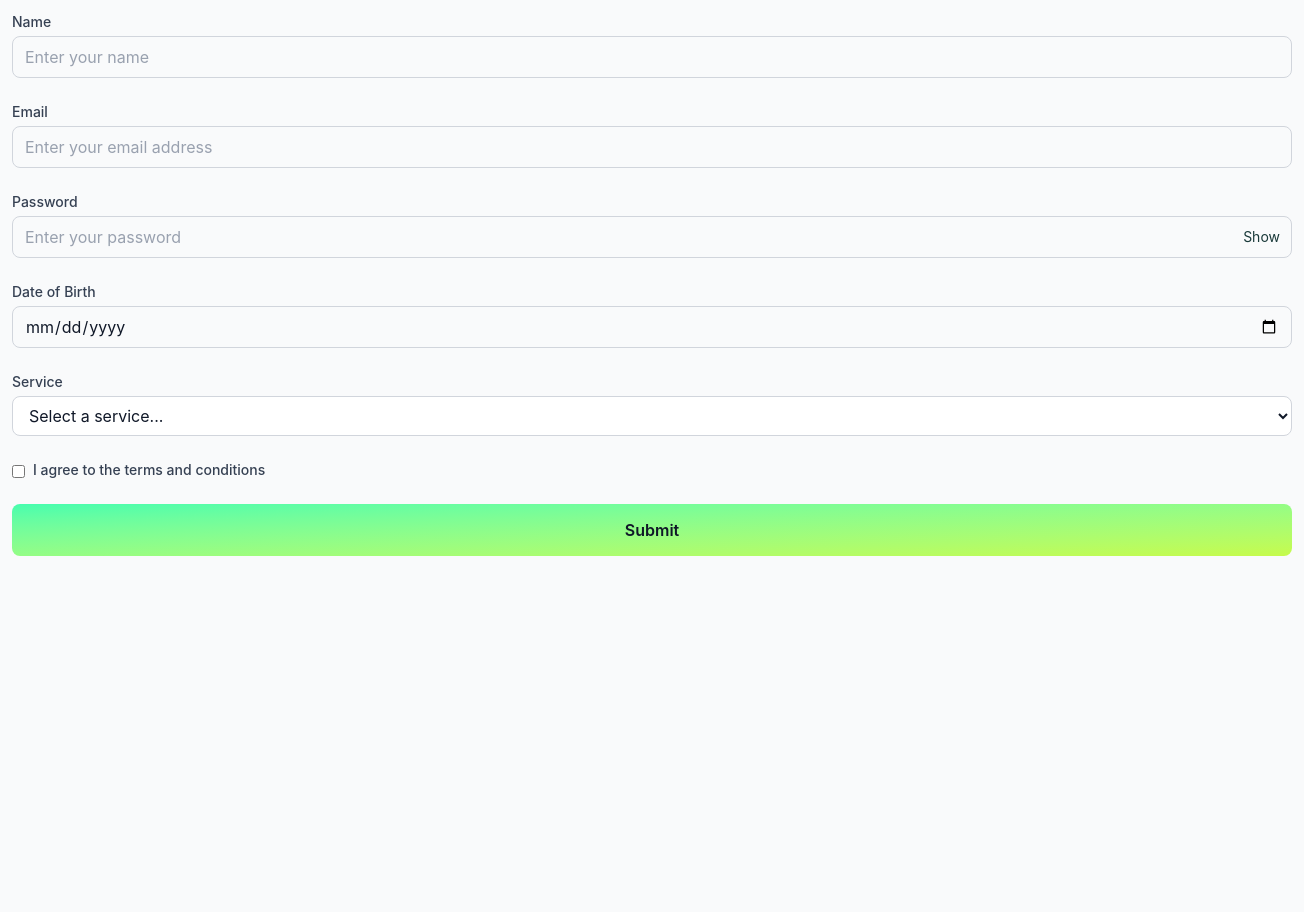
Test: ServiceForm › clears a text error while typing without needing to blur
Submit the form, box [12, 12, 1292, 556]
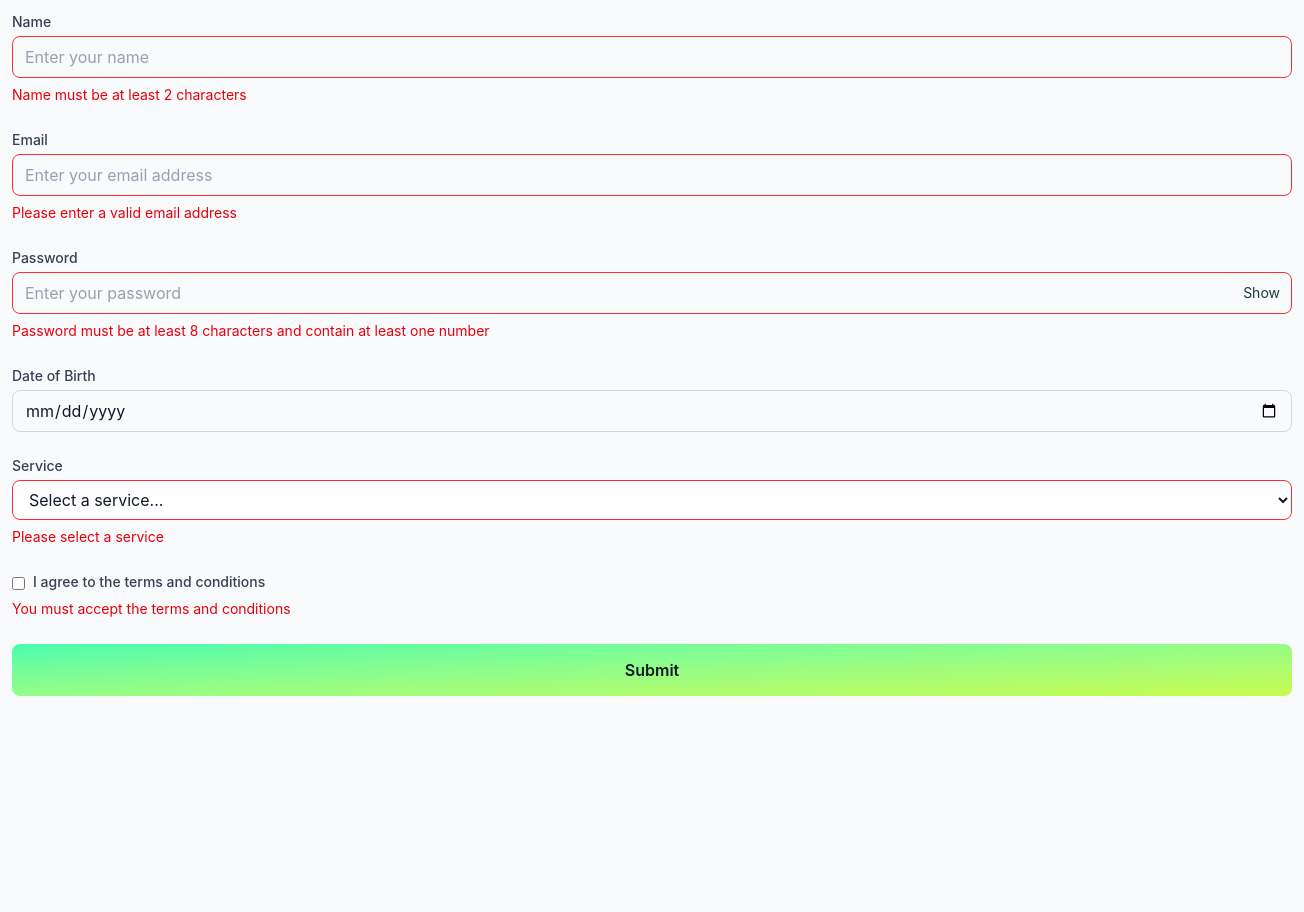
Result: the message with test id "error" reads "Name must be at least 2 characters" at [12, 86, 247, 103]
Type "Dan" into the field labelled "Name" at point(652, 57), box [12, 36, 1292, 78]
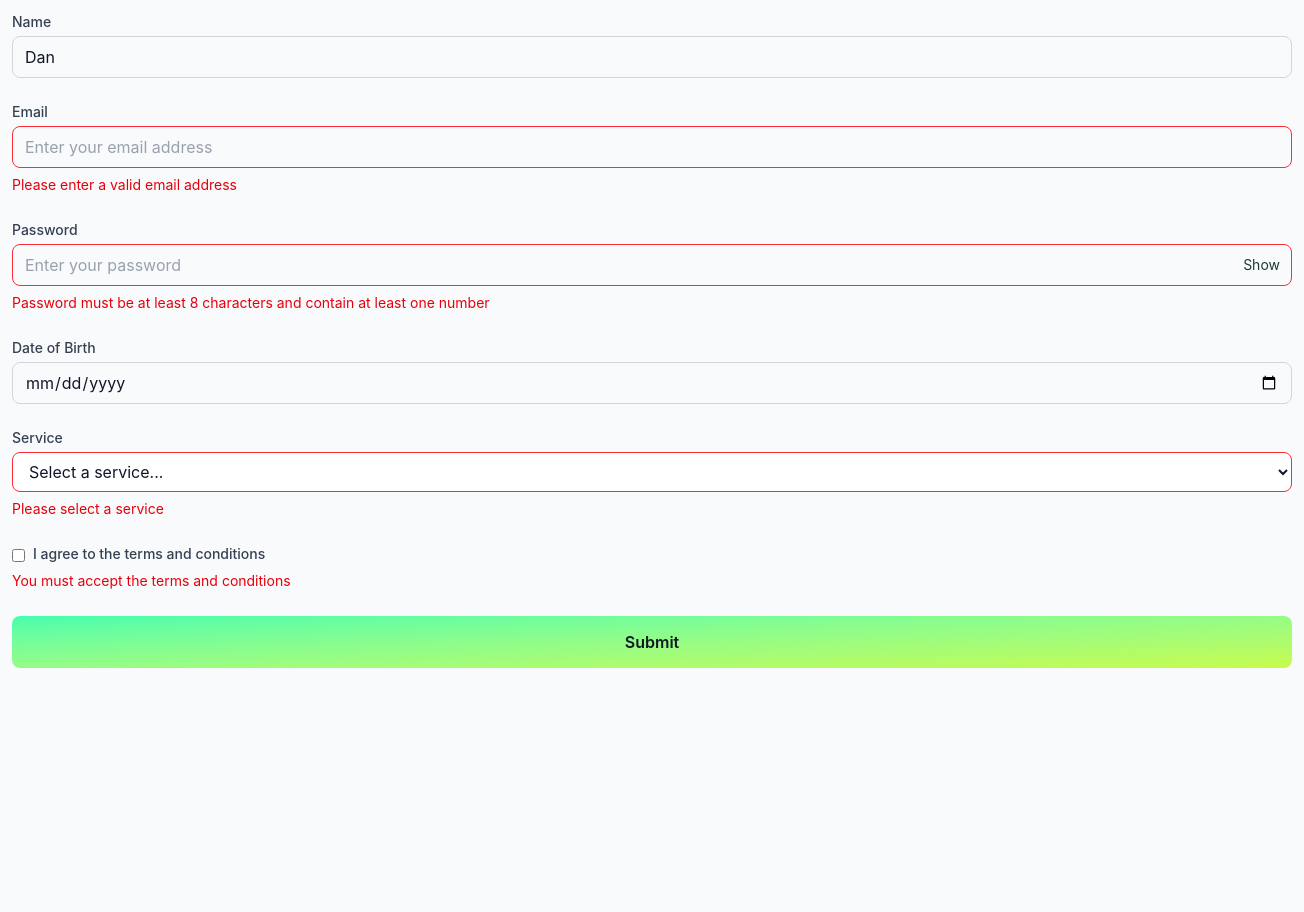
Result: the message with test id "error" no longer shows "Name must be at least 2 characters"
